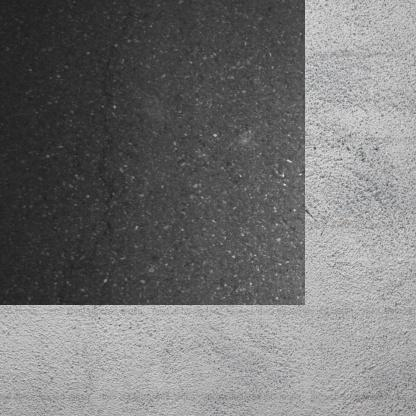Cracks: (83, 103, 109, 238), (92, 37, 110, 85)
